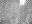person: (21, 0, 25, 4)
